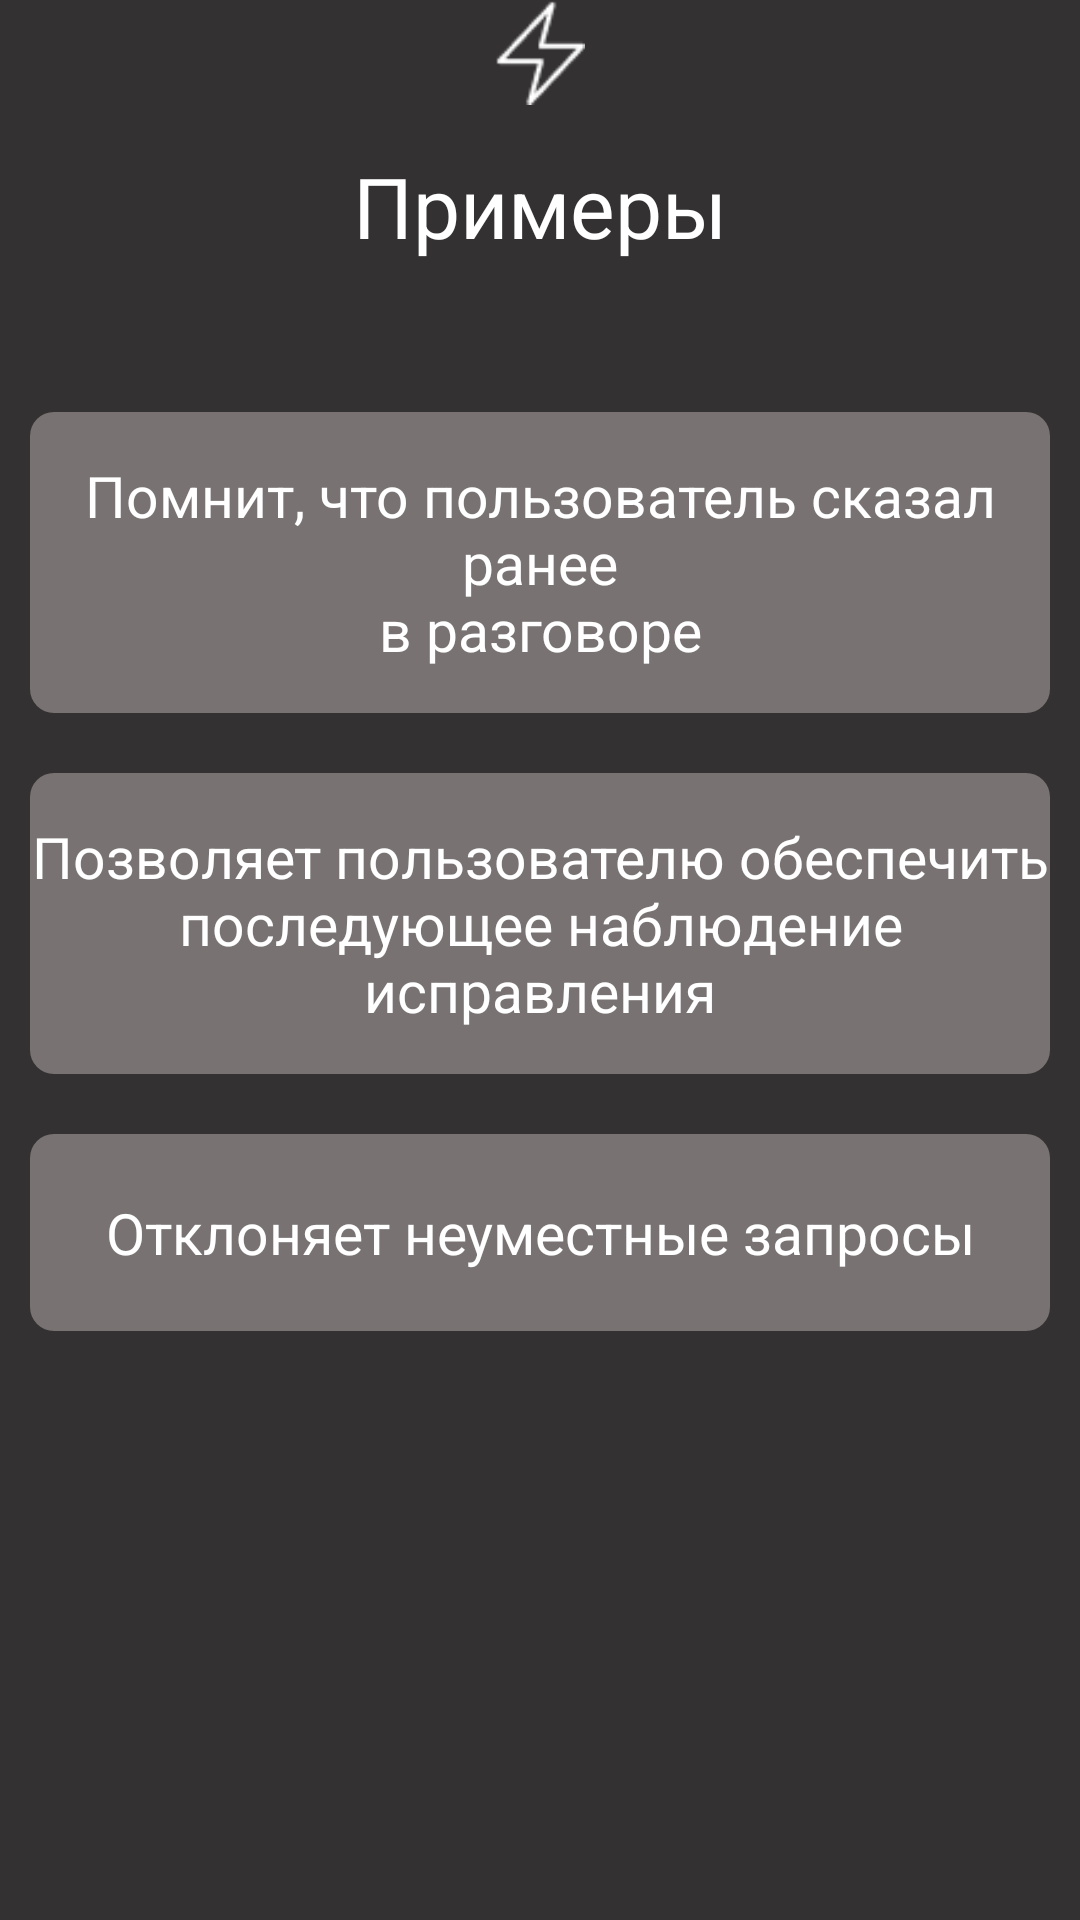

Screen size 1080px x 1920px. Icon name, then its box in pixels as box=[x1, y1, x2, y2]:
molnia: box=[496, 2, 585, 105]
